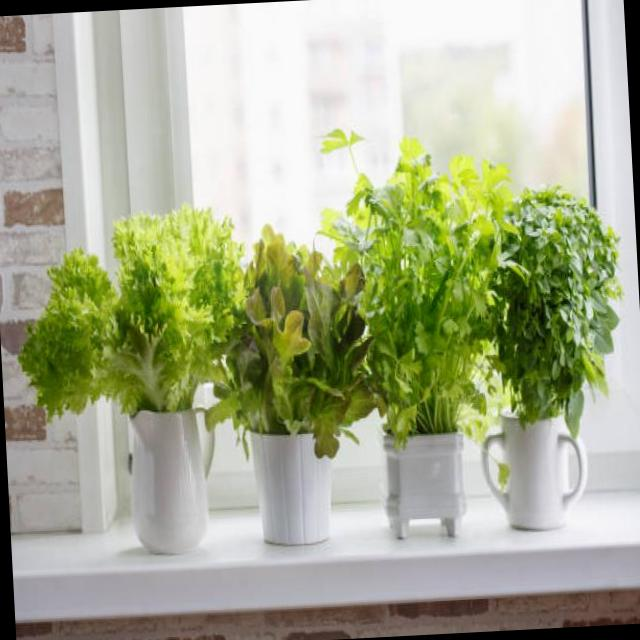Lettuce-Ready-to-Harvest: (324, 139, 510, 446), (19, 207, 243, 417), (208, 226, 375, 458), (492, 186, 622, 436)
